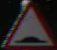Speed Breaker ahead: (6, 3, 47, 44)
